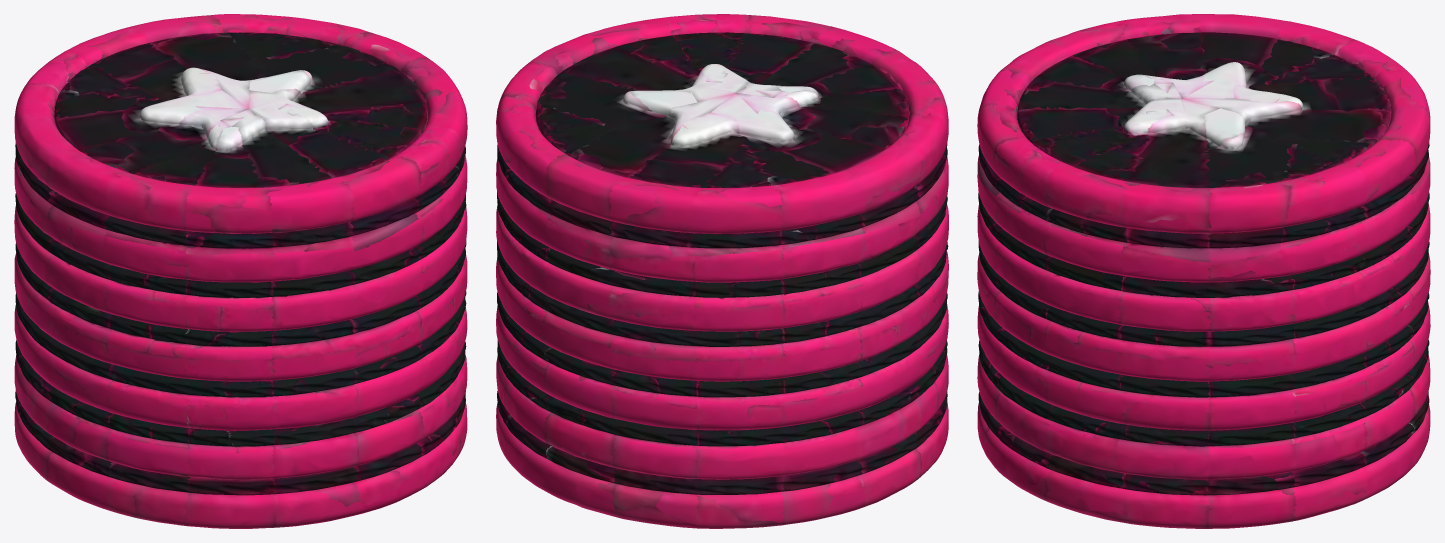
File: poplur_cube_coin_stack.glb
3 views of the same model, side by side, from view 1: azimuth 30°, elevation 25°; view 2: azimuth 150°, elevation 25°; view 3: azimuth 270°, elevation 25° (orthographic).
Parts seen in each view (by area): view 1: mesh_node; view 2: mesh_node; view 3: mesh_node.
Boxes of the visible parts, box(x1,y1,x2,y2) form: mesh_node: box(14, 14, 467, 528); mesh_node: box(496, 14, 948, 528); mesh_node: box(977, 14, 1430, 528).
Bounding box in the file's own units: 1.9 × 1.56 × 1.9.
Materials: 1 (1 with a texture image).
